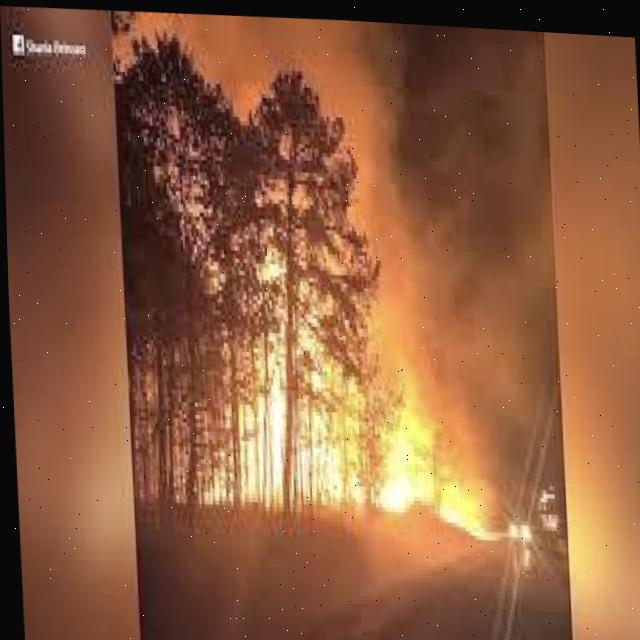smoke: (114, 12, 560, 516)
